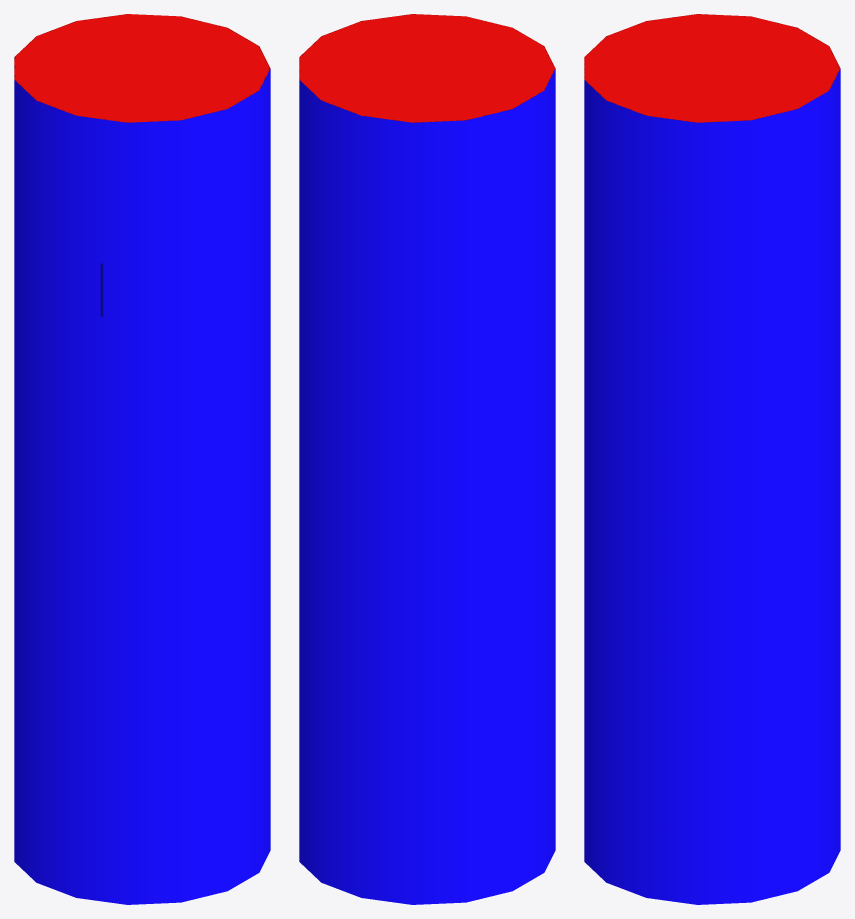
Rendered from pipe_straight.glb.
3 views of the same model, side by side, from view 1: azimuth 30°, elevation 25°; view 2: azimuth 150°, elevation 25°; view 3: azimuth 270°, elevation 25° (orthographic).
Parts seen in each view (by area): view 1: pipe_straight; view 2: pipe_straight; view 3: pipe_straight.
Boxes of the visible parts, box(x1,y1,x2,y2) form: pipe_straight: box(14, 14, 270, 904); pipe_straight: box(299, 14, 555, 904); pipe_straight: box(584, 14, 840, 904).
Bounding box in the file's own units: 0.5967 × 2 × 0.5934.
1 material, 1 textured.
